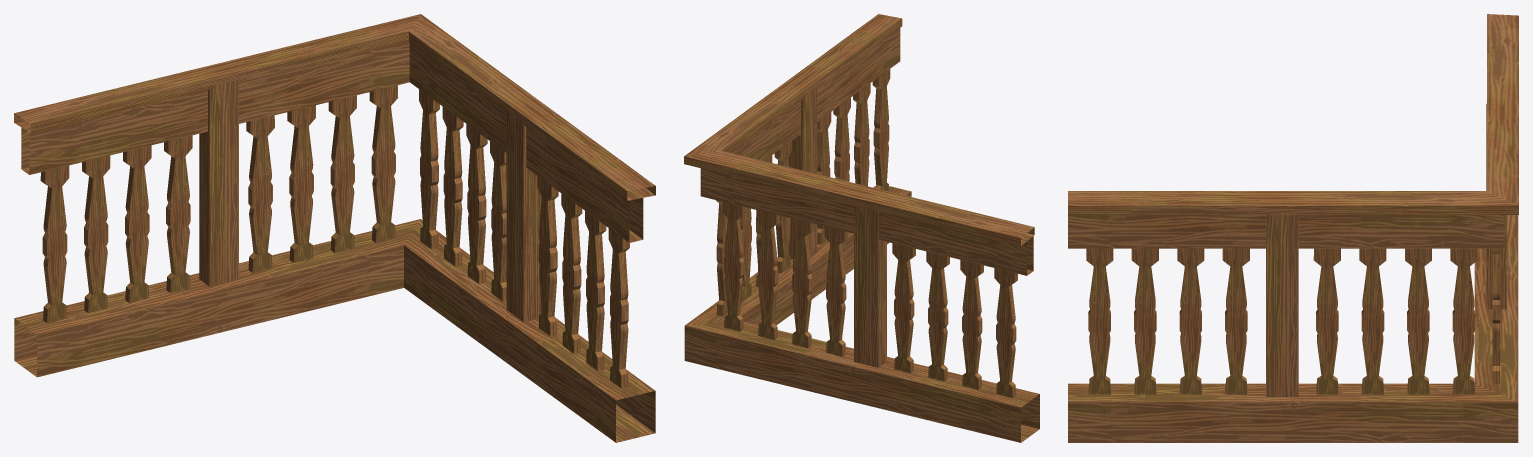
File: balcony_corner.glb
3 renders of one model, left to right at view 1: azimuth 30°, elevation 25°; view 2: azimuth 150°, elevation 25°; view 3: azimuth 270°, elevation 25°, orthographic. The views are drawn at different scales.
Parts seen in each view (by area): view 1: Balcony_Simple_Corner; view 2: Balcony_Simple_Corner; view 3: Balcony_Simple_Corner.
Part boxes in pixels (x1,y1,x2,y2): Balcony_Simple_Corner: (14,14,655,442); Balcony_Simple_Corner: (684,14,1039,442); Balcony_Simple_Corner: (1068,14,1518,442).
Size of the model in its own units: 2.1 by 1.23 by 2.1.
1 material, 1 textured.
